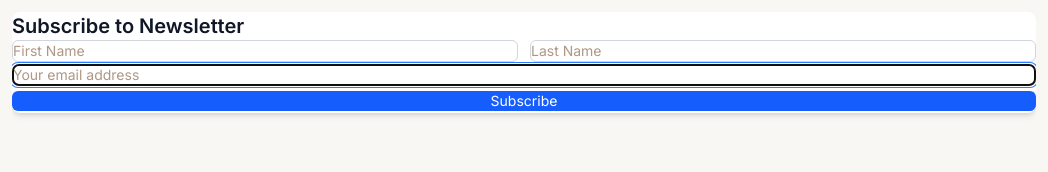
NewsletterSignup Component › shows success message after successful submission
The image size is (1048, 172).
In the field with placeholder "Your email address": (524,75) [12,64,1036,86], type "test@example.com"
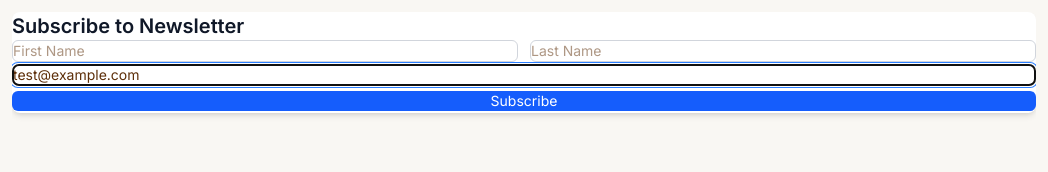
Click the button "Subscribe": (524,101) [12,91,1036,111]
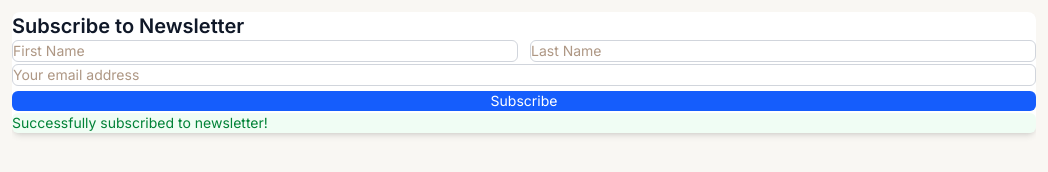
Expected: the text "Successfully subscribed to newsletter!" is shown, [12,113,1036,133]
